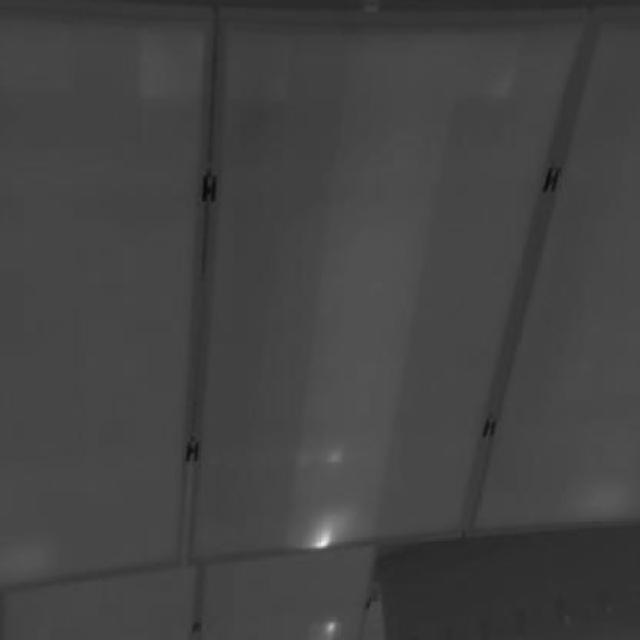hotspot: (304, 512, 356, 552), (308, 619, 346, 638)
